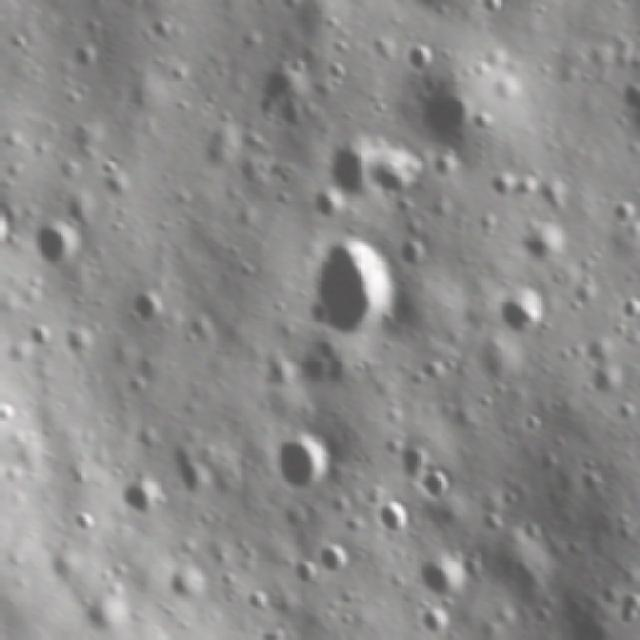crater: (298, 230, 404, 341), (418, 76, 482, 152), (271, 428, 335, 498), (257, 61, 320, 122), (359, 142, 419, 204), (295, 335, 356, 390), (492, 284, 550, 341), (416, 549, 470, 606), (25, 221, 84, 273), (163, 442, 214, 500), (514, 221, 566, 270), (78, 592, 131, 640), (116, 474, 166, 523), (162, 562, 212, 606), (128, 282, 169, 326), (269, 99, 314, 136), (98, 164, 138, 204), (397, 42, 437, 82), (312, 542, 353, 581), (389, 445, 431, 483), (372, 501, 412, 539), (415, 474, 459, 508), (580, 333, 617, 373), (585, 366, 623, 403), (63, 197, 100, 234), (68, 38, 103, 77), (534, 176, 569, 213), (233, 27, 267, 62), (574, 470, 603, 505), (416, 611, 450, 640), (486, 174, 520, 203), (607, 198, 636, 230), (292, 558, 320, 591), (617, 592, 638, 631), (324, 62, 353, 90), (147, 16, 171, 47), (0, 194, 11, 260), (613, 397, 633, 431), (521, 412, 542, 442), (616, 295, 638, 323), (478, 0, 504, 22), (256, 626, 284, 640), (0, 426, 5, 476), (328, 635, 358, 640), (176, 0, 204, 5)
